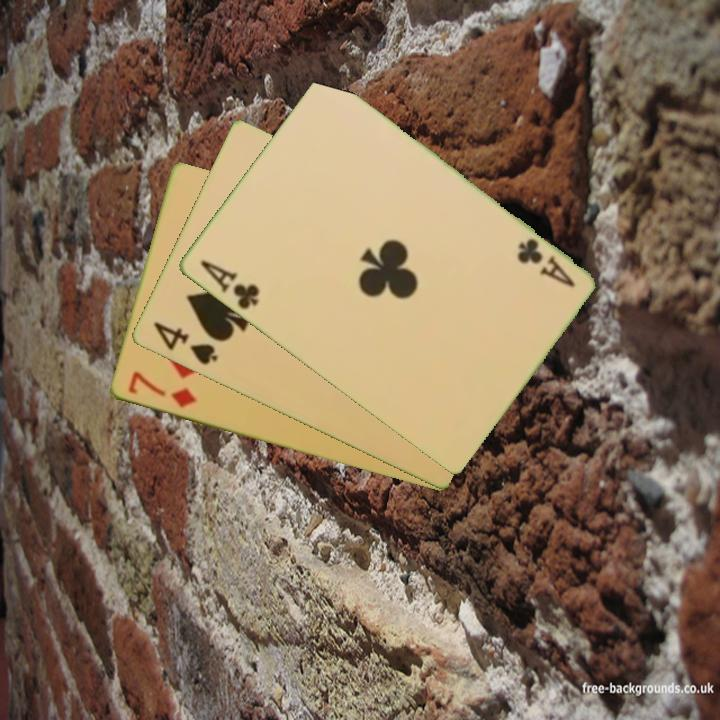4s: (149, 318, 220, 369)
7d: (124, 368, 199, 411)
Ac: (196, 256, 262, 313), (513, 234, 578, 290)
